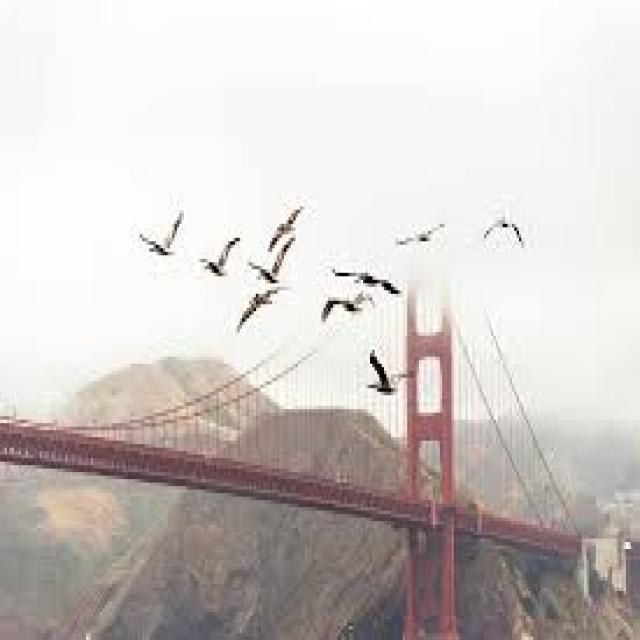Bridges: (0, 243, 602, 640)
